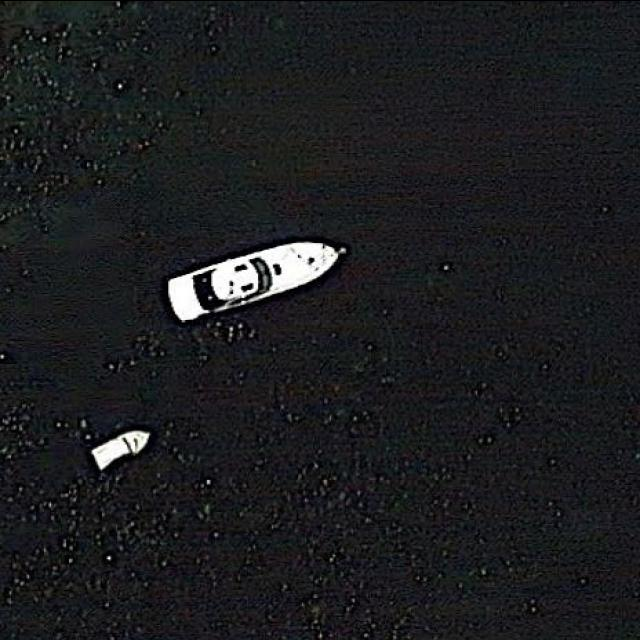ship: (165, 240, 344, 326), (92, 428, 152, 472)
